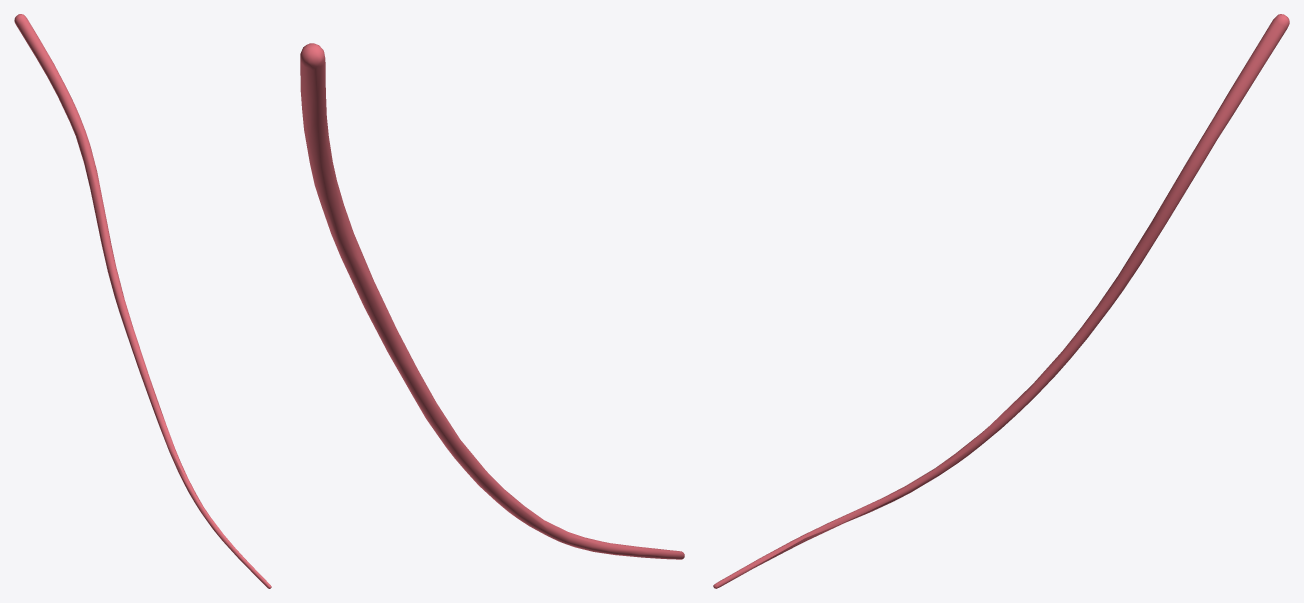
File: fma85100_fj2358.glb
3 views of the same model, side by side, from view 1: azimuth 30°, elevation 25°; view 2: azimuth 150°, elevation 25°; view 3: azimuth 270°, elevation 25° (orthographic). The views are drawn at different scales.
Parts seen in each view (by area): view 1: FMA85100_FJ2358; view 2: FMA85100_FJ2358; view 3: FMA85100_FJ2358.
Boxes of the visible parts, x1,y1,x2,y2 form: FMA85100_FJ2358: (14,14,271,588); FMA85100_FJ2358: (300,43,684,559); FMA85100_FJ2358: (713,14,1289,588).
Bounding box in the file's own units: 0.00518 × 0.053 × 0.05.
